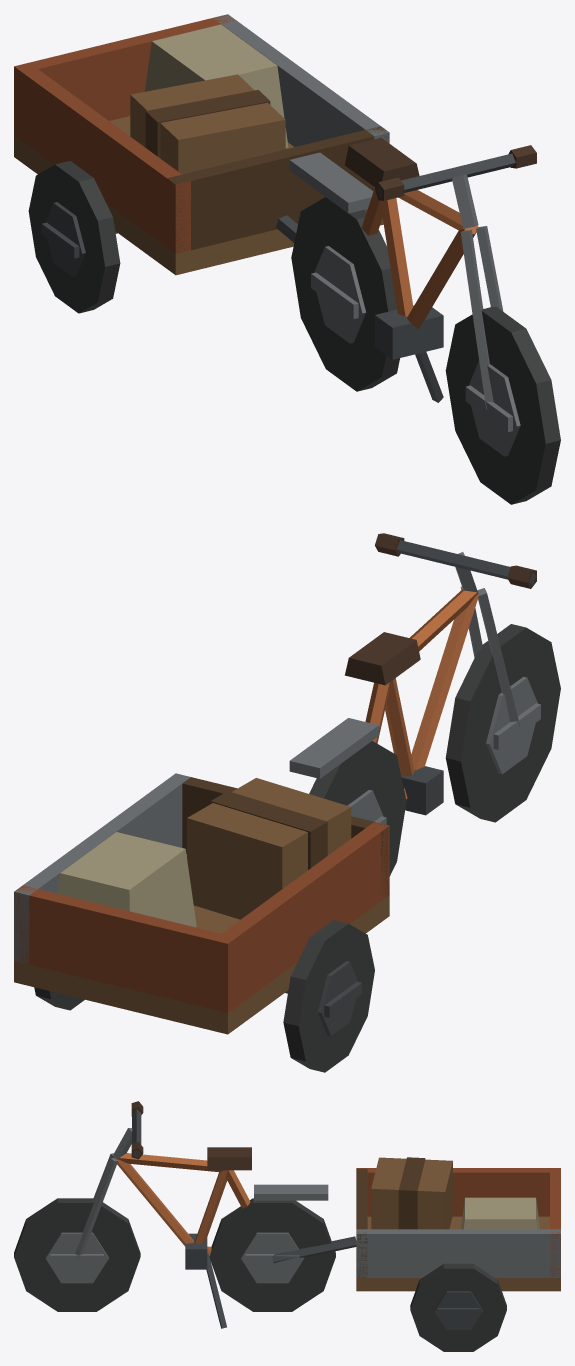
Rendered from vehicle_bicycle_cart.glb.
3 renders of one model, top to bottom at view 1: azimuth 30°, elevation 25°; view 2: azimuth 150°, elevation 25°; view 3: azimuth 270°, elevation 25°, orthographic. The views are drawn at different scales.
Visible parts, largest first — view 1: body, wheel_f, wheel_r, wheel_tr; view 2: body, wheel_f, wheel_tr, wheel_r; view 3: body, wheel_f, wheel_r, wheel_tl.
Part boxes in pixels (x1,y1,x2,y2): body: (14, 14, 536, 409); wheel_f: (445, 306, 560, 504); wheel_r: (291, 197, 399, 391); wheel_tr: (28, 161, 120, 313); body: (14, 533, 536, 1034); wheel_f: (445, 624, 560, 822); wheel_tr: (283, 920, 374, 1072); wheel_r: (309, 741, 406, 876); body: (75, 1101, 560, 1328); wheel_f: (14, 1198, 140, 1311); wheel_r: (209, 1198, 335, 1311); wheel_tl: (410, 1263, 506, 1351).
Size of the model in its own units: 1.13 by 1.12 by 2.94.
